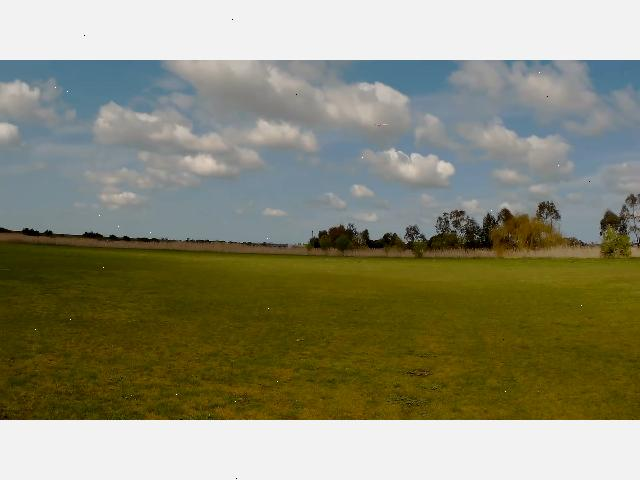Anti-Drone: (374, 124, 388, 126)
